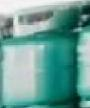cylinder: (0, 1, 90, 108)
